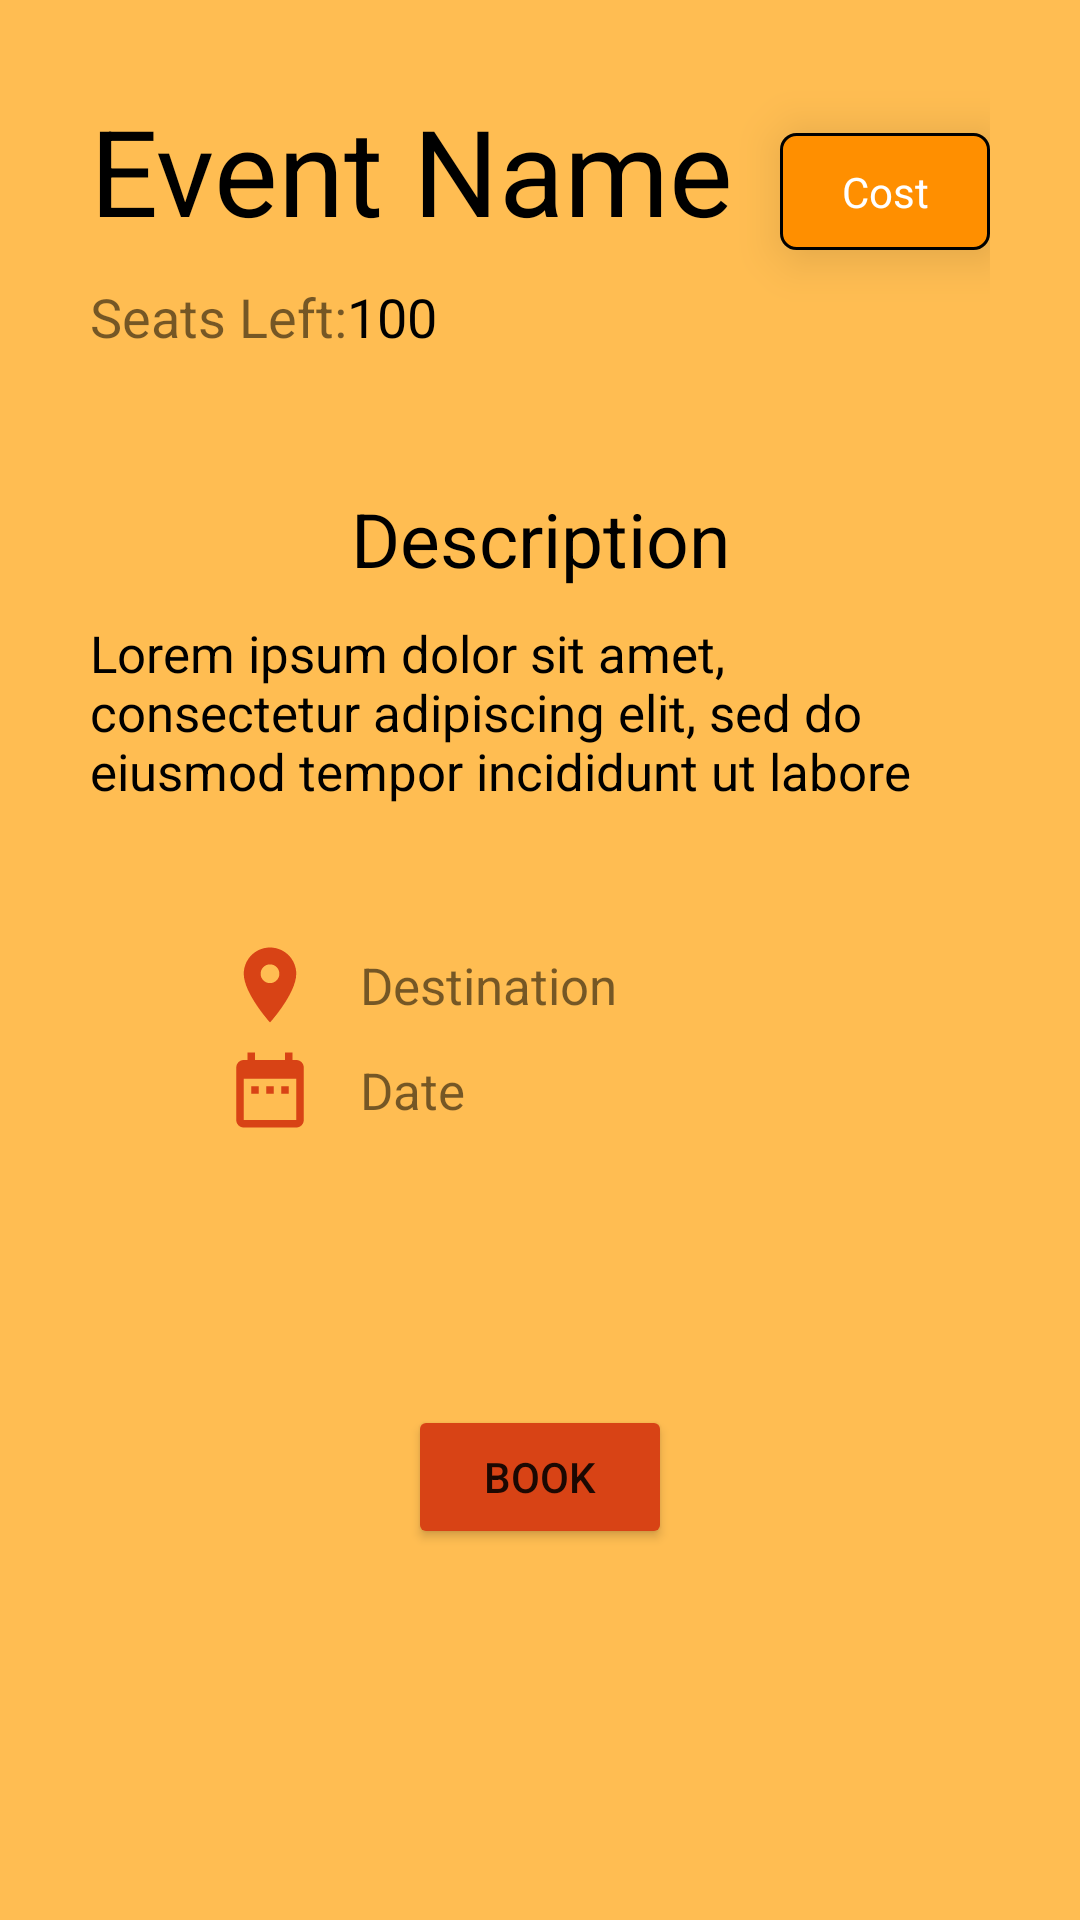

Named icons in this screenshot (1080w x 1920h) and their centers, (x,y):
location on: (270,984)
